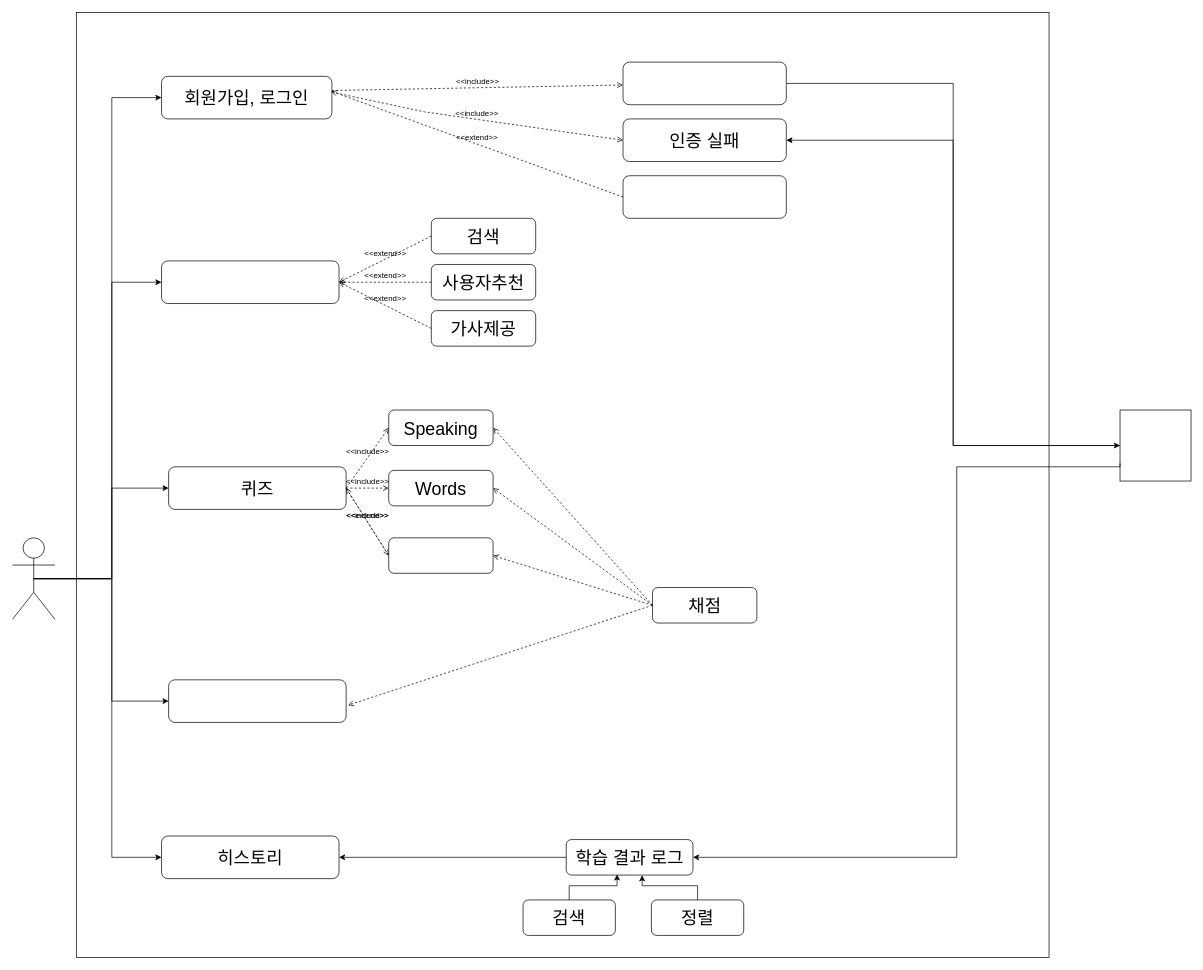
This 1203x970 diagram has some shape labels left out. The shapes that lost their labels are listed below. From the top down, each one's box as (x1, y1, x2, y2) in pixels, then its label:
(622, 61, 786, 105): 인증
(622, 175, 786, 218): 토큰 재발급
(161, 260, 339, 304): 음악 스트리밍
(1119, 409, 1191, 481): DB
(388, 537, 493, 573): Grammar
(12, 537, 55, 619): 사용자
(168, 679, 346, 722): 모의고사
